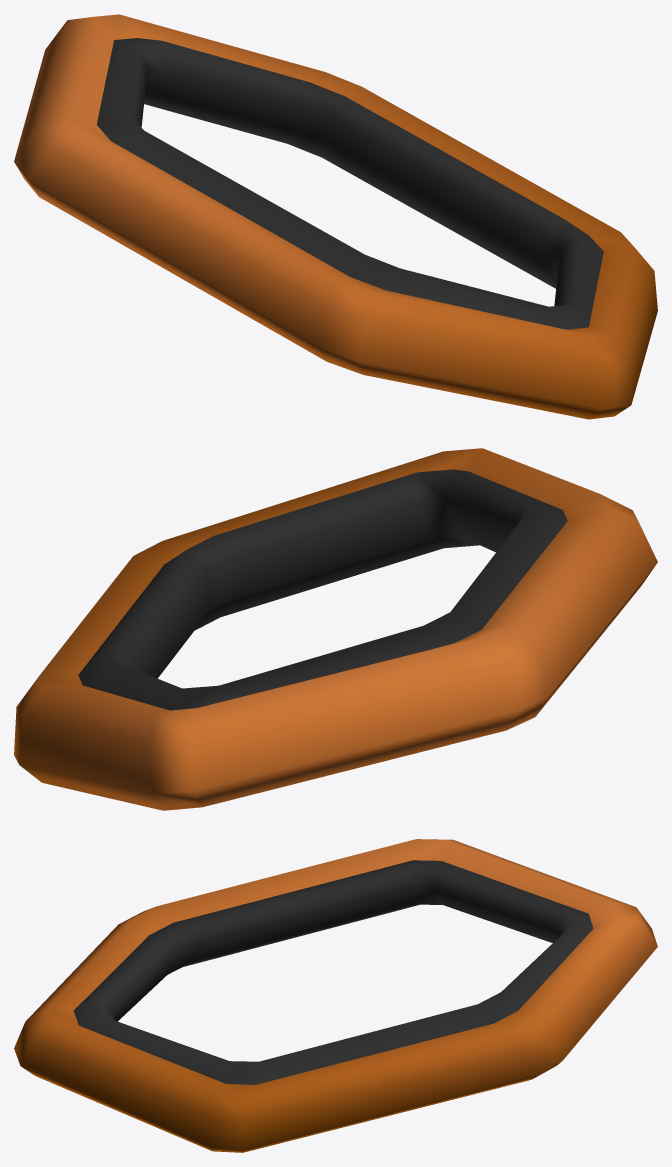
File: drone_2_005.fbx
3 views of the same model, one above another, from view 1: azimuth 30°, elevation 25°; view 2: azimuth 150°, elevation 25°; view 3: azimuth 270°, elevation 25° (orthographic). The views are drawn at different scales.
Visible parts, largest first — view 1: drone_2_005; view 2: drone_2_005; view 3: drone_2_005.
Boxes of the visible parts, x1,y1,x2,y2 form: drone_2_005: (14,14,657,419); drone_2_005: (14,448,657,810); drone_2_005: (14,839,657,1152).
Bounding box in the file's own units: 187 × 278 × 73.82.
